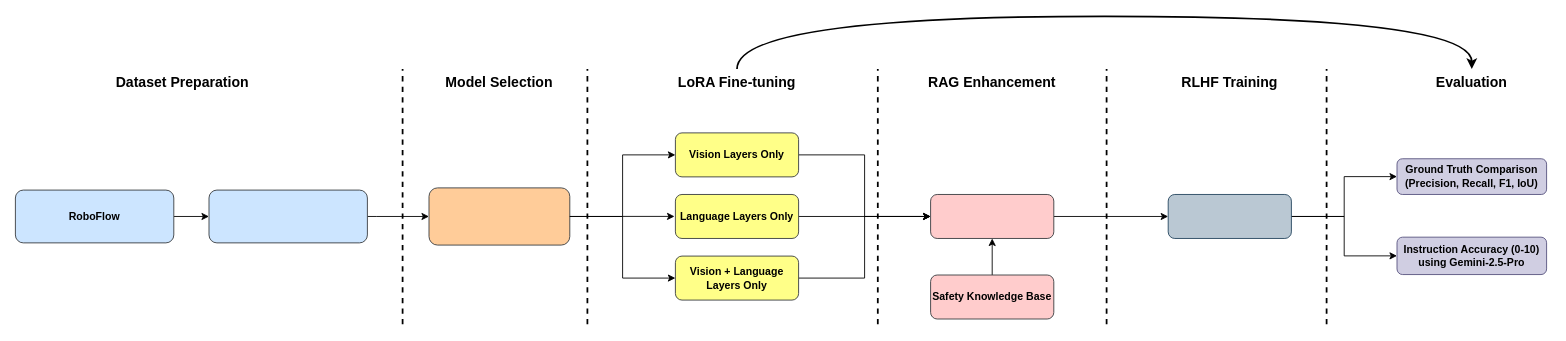
This 1566x341 diagram has some shape labels left out. Each missing label, with the centre of its shape:
"Custom Safety Annotations (Function, Usage, PPE, Hazards, Misuses)" goes at (287,216).
"FAISS-based Retrieval" goes at (992,216).
"GRPO Optimization (Preference Learning)" goes at (1229,216).
"Qwen 2.5-VL Llama-3.2-11B-Vision" goes at (499,216).
